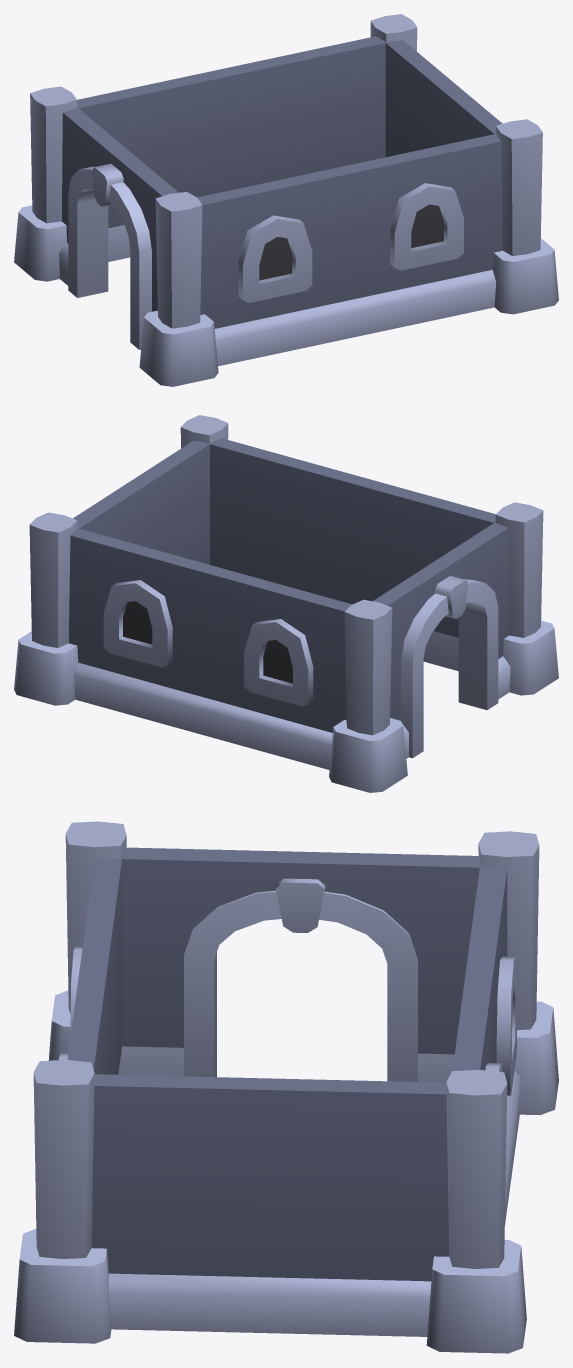
Rendered from crypt-large.001_lev2.glb.
The picture shows the model from 3 angles, top to bottom: view 1: azimuth 30°, elevation 25°; view 2: azimuth 150°, elevation 25°; view 3: azimuth 270°, elevation 25°; orthographic projection. The views are drawn at different scales.
Parts seen in each view (by area): view 1: crypt-large.001_lev2; view 2: crypt-large.001_lev2; view 3: crypt-large.001_lev2.
Boxes of the visible parts, left/top/right/bottom form: crypt-large.001_lev2: left=14, top=14, right=558, bottom=386; crypt-large.001_lev2: left=14, top=415, right=558, bottom=792; crypt-large.001_lev2: left=14, top=821, right=558, bottom=1353.
Bounding box in the file's own units: 19.97 × 8 × 15.82.
1 material, 1 textured.
